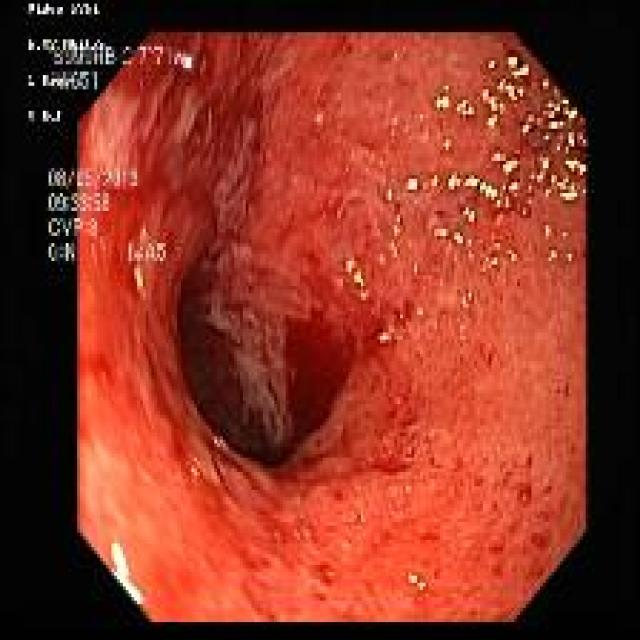ulcerative-colitis: (76, 33, 586, 621)
